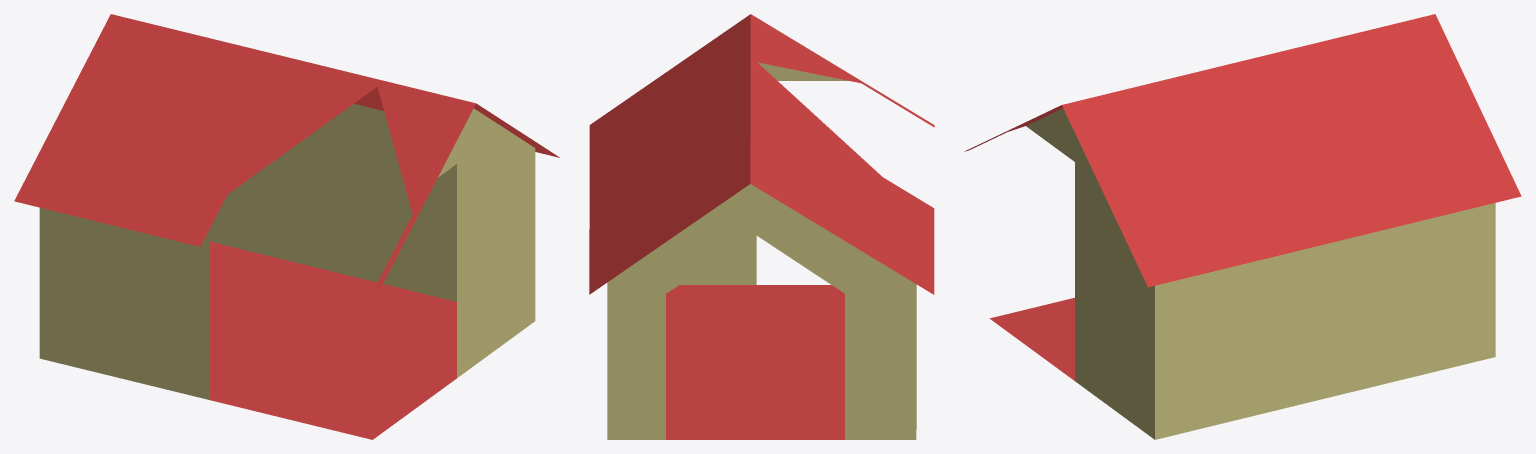
3 views of the same model, side by side, from view 1: azimuth 30°, elevation 25°; view 2: azimuth 150°, elevation 25°; view 3: azimuth 270°, elevation 25° (orthographic). The views are drawn at different scales.
Bounding box in the file's own units: 21.03 × 21.91 × 12.24.
